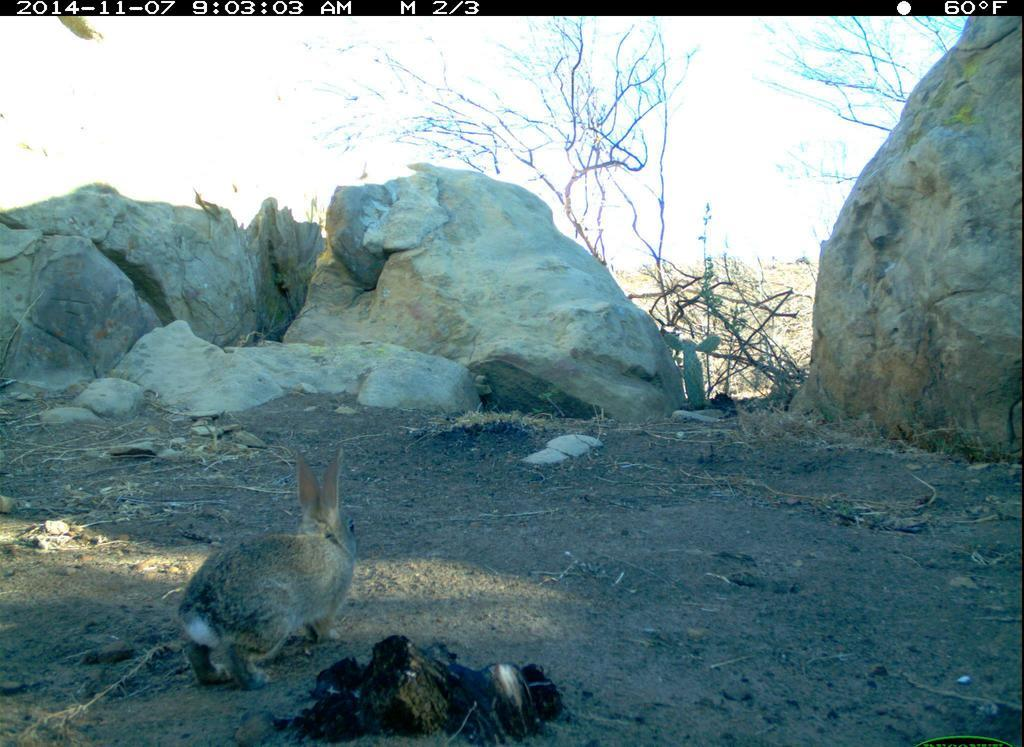rabbit: (175, 445, 360, 697)
